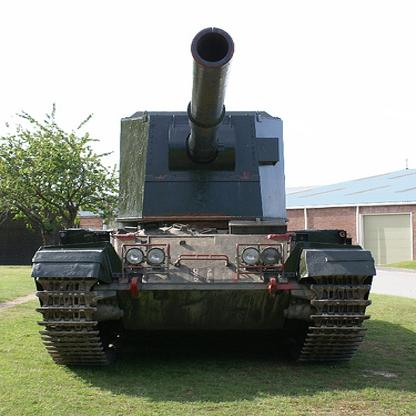Tank: (30, 24, 376, 367)
